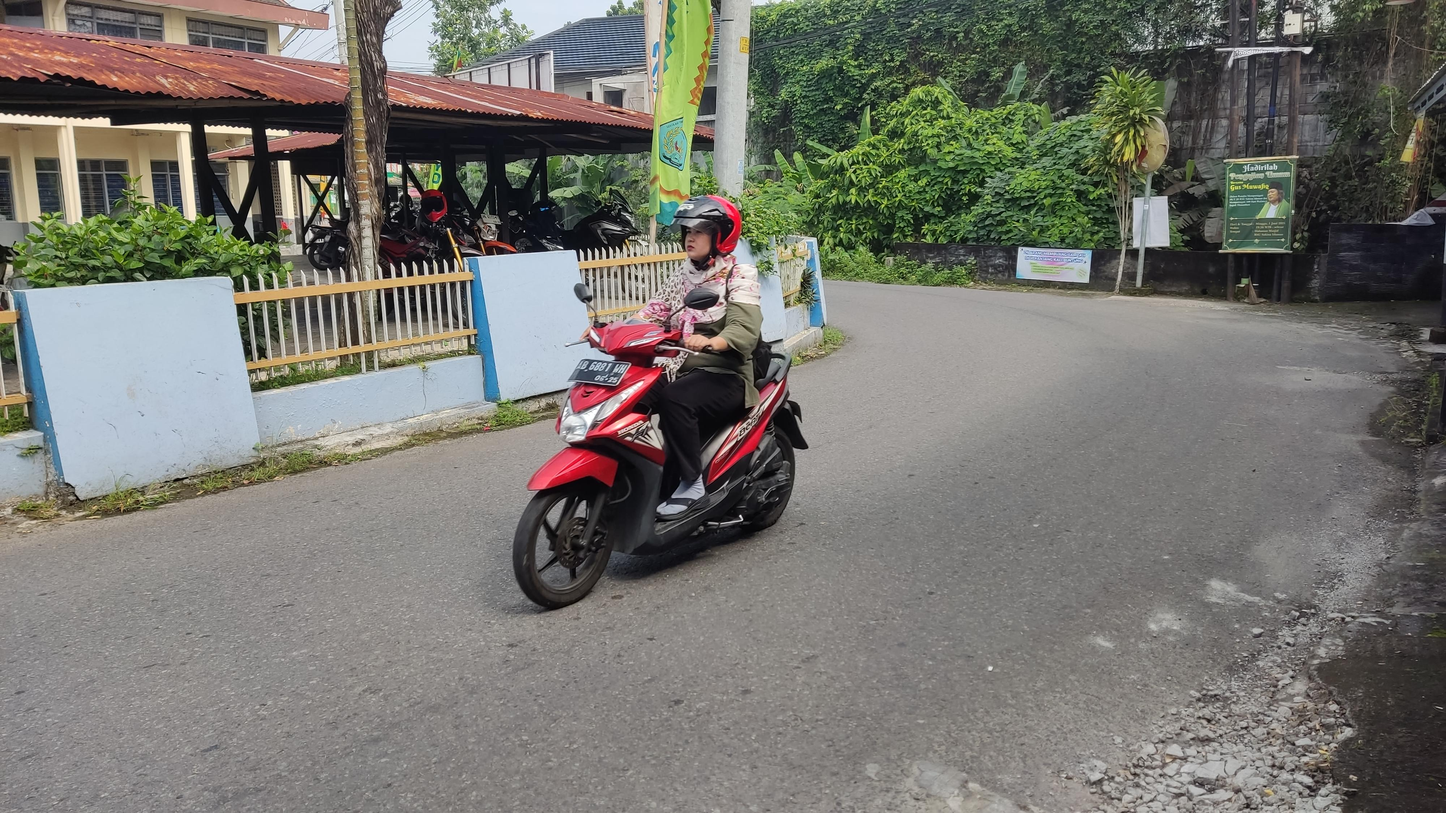helm: (669, 192, 746, 269)
riding: (501, 187, 823, 620)
